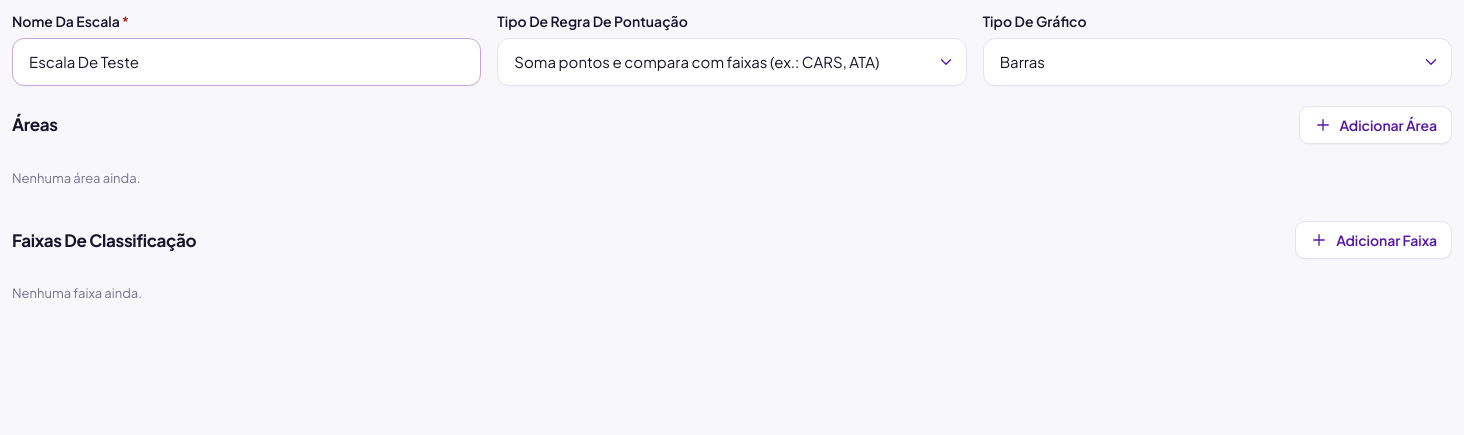
Test: TemplateBuilder › trocar o tipo de regra para count_threshold mostra o campo de valores que contam
The width and height of the screenshot is (1464, 435).
Select "Conta itens em um valor específico (ex.: SNAP-IV)" in the dropdown labelled "Tipo De Regra De Pontuação" at (732,62), box [497,38,967,86]
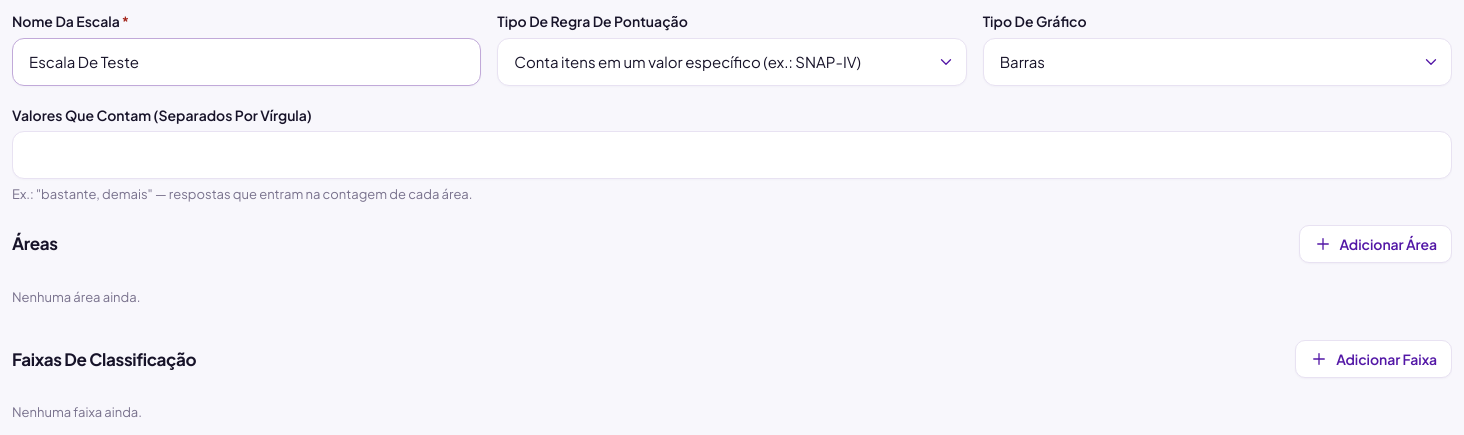
Check: the field labelled "Valores Que Contam (Separados Por Vírgula)" is shown, box [12,131,1452,179]
